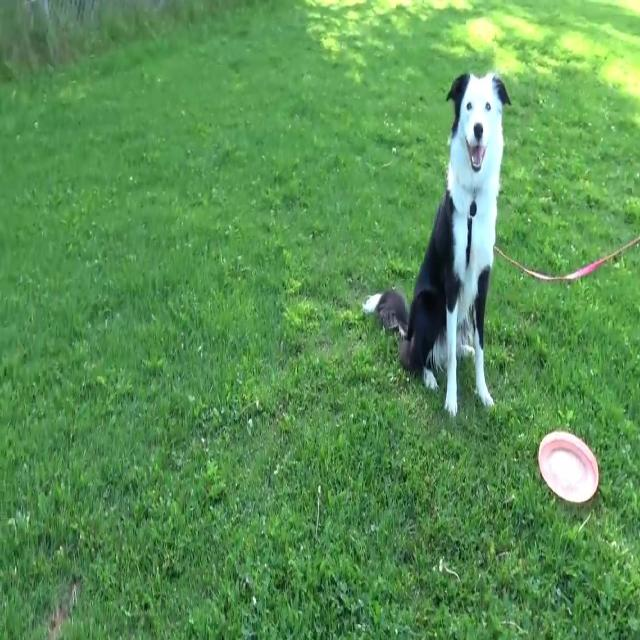Dog: (362, 72, 512, 418)
